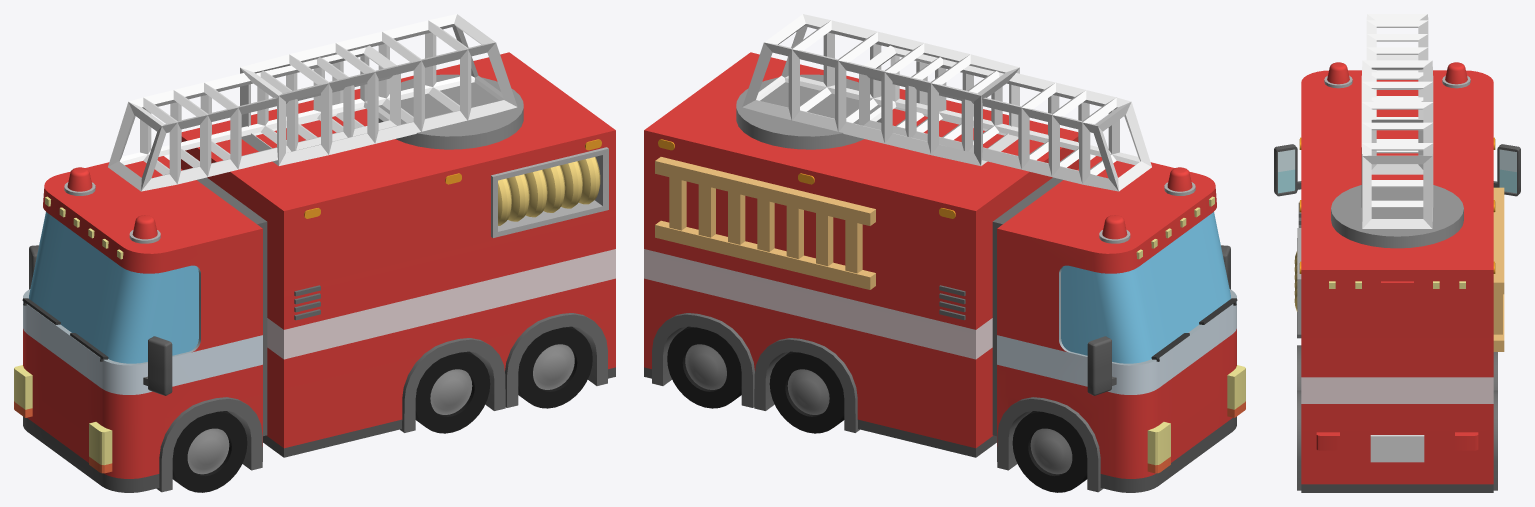
File: fire_engine.glb
3 views of the same model, side by side, from view 1: azimuth 30°, elevation 25°; view 2: azimuth 150°, elevation 25°; view 3: azimuth 270°, elevation 25° (orthographic). The views are drawn at different scales.
Visible parts, largest first — view 1: Cube.633; view 2: Cube.633; view 3: Cube.633.
Part boxes in pixels (box(x1,y1,x2,y2)): Cube.633: box(14, 14, 615, 492); Cube.633: box(644, 14, 1245, 492); Cube.633: box(1274, 14, 1520, 492).
Size of the model in its own units: 2.29 by 1.48 by 1.05.
Materials: 1 (1 with a texture image).
